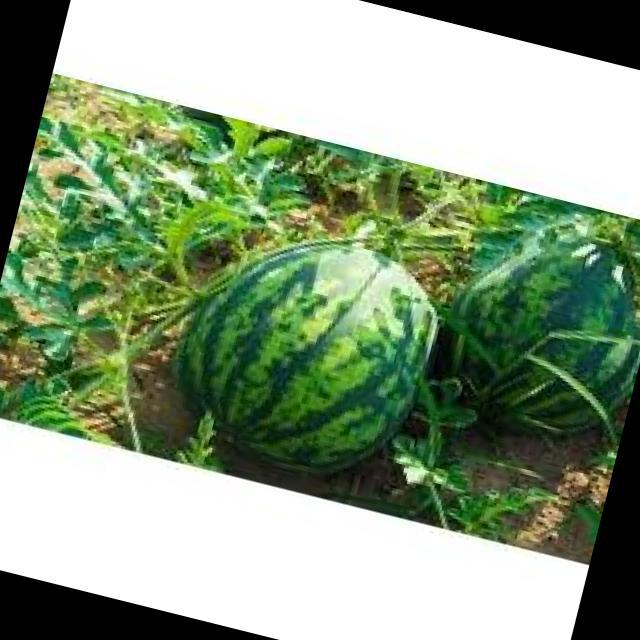watermelon: (178, 246, 437, 469), (448, 222, 639, 439)
